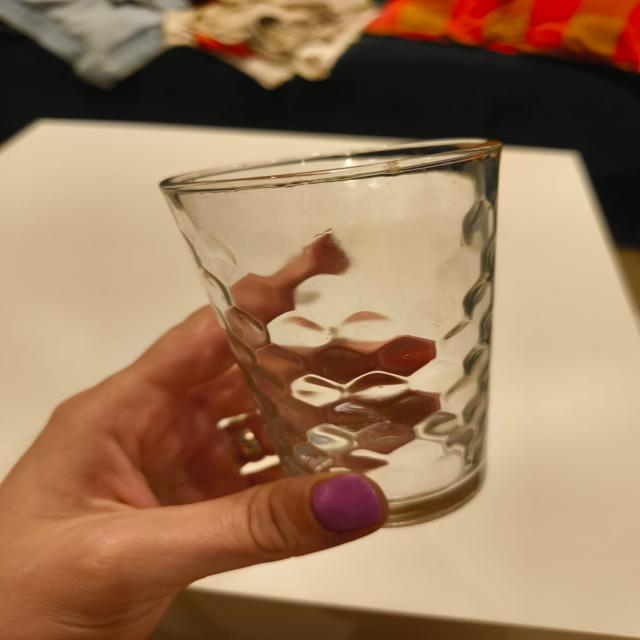ok g2: (159, 136, 505, 531), (511, 518, 513, 519)
